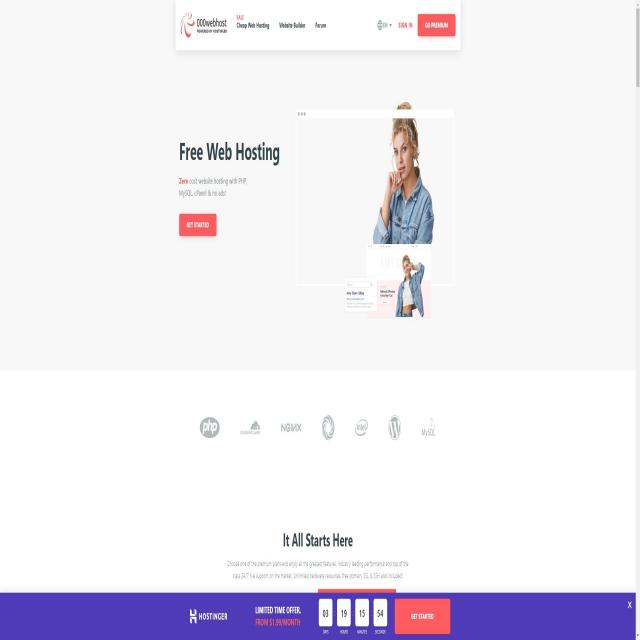button: (394, 596, 451, 636), (415, 10, 455, 41), (180, 211, 217, 239)
